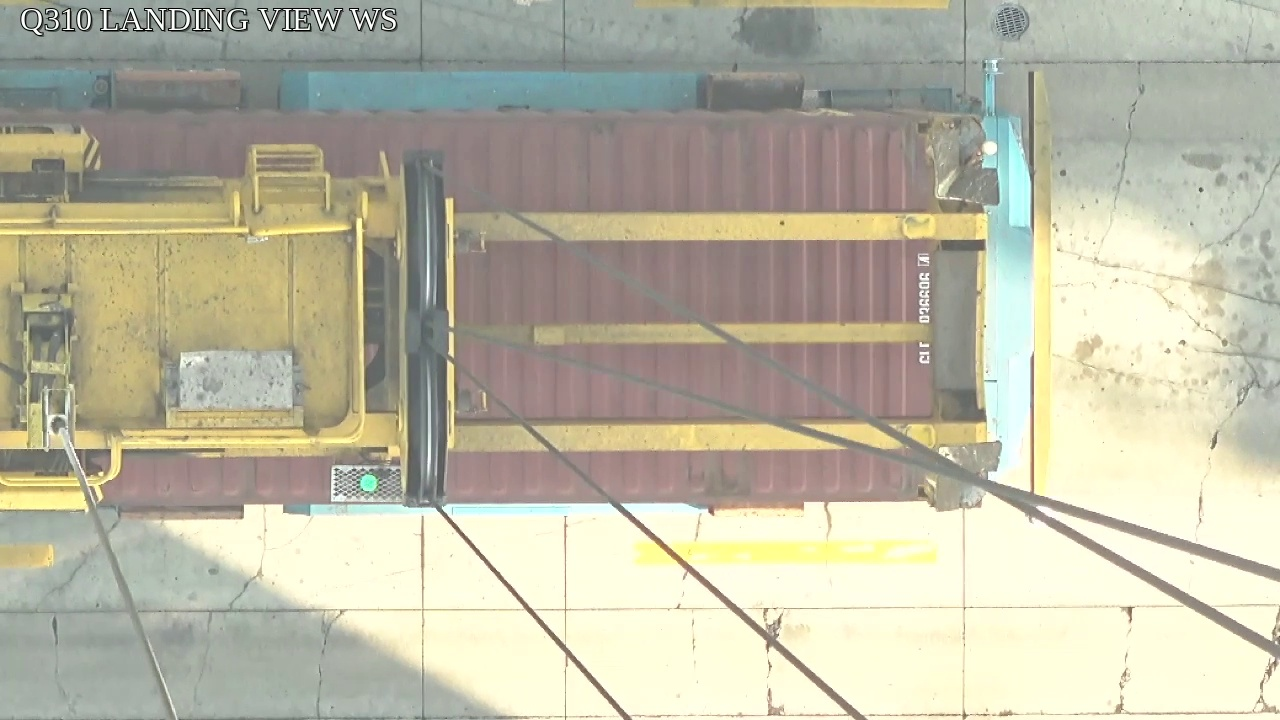right: (397, 149, 451, 510)
